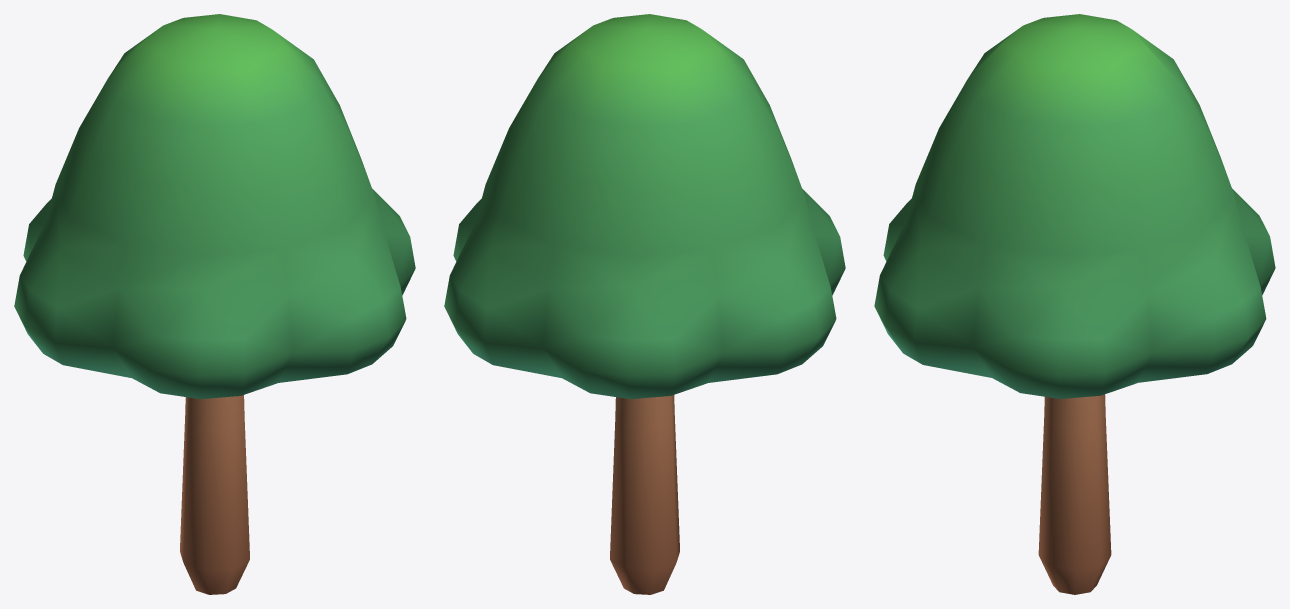
Rendered from Tree.glb.
The picture shows the model from 3 angles, left to right: view 1: azimuth 30°, elevation 25°; view 2: azimuth 150°, elevation 25°; view 3: azimuth 270°, elevation 25°; orthographic projection.
Visible parts, largest first — view 1: tree; view 2: tree; view 3: tree.
Boxes of the visible parts, x1,y1,x2,y2 form: tree: (14, 14, 415, 594); tree: (444, 14, 845, 594); tree: (874, 14, 1275, 594).
Size of the model in its own units: 2.48 by 3.62 by 2.37.
Materials: 1 (1 with a texture image).
